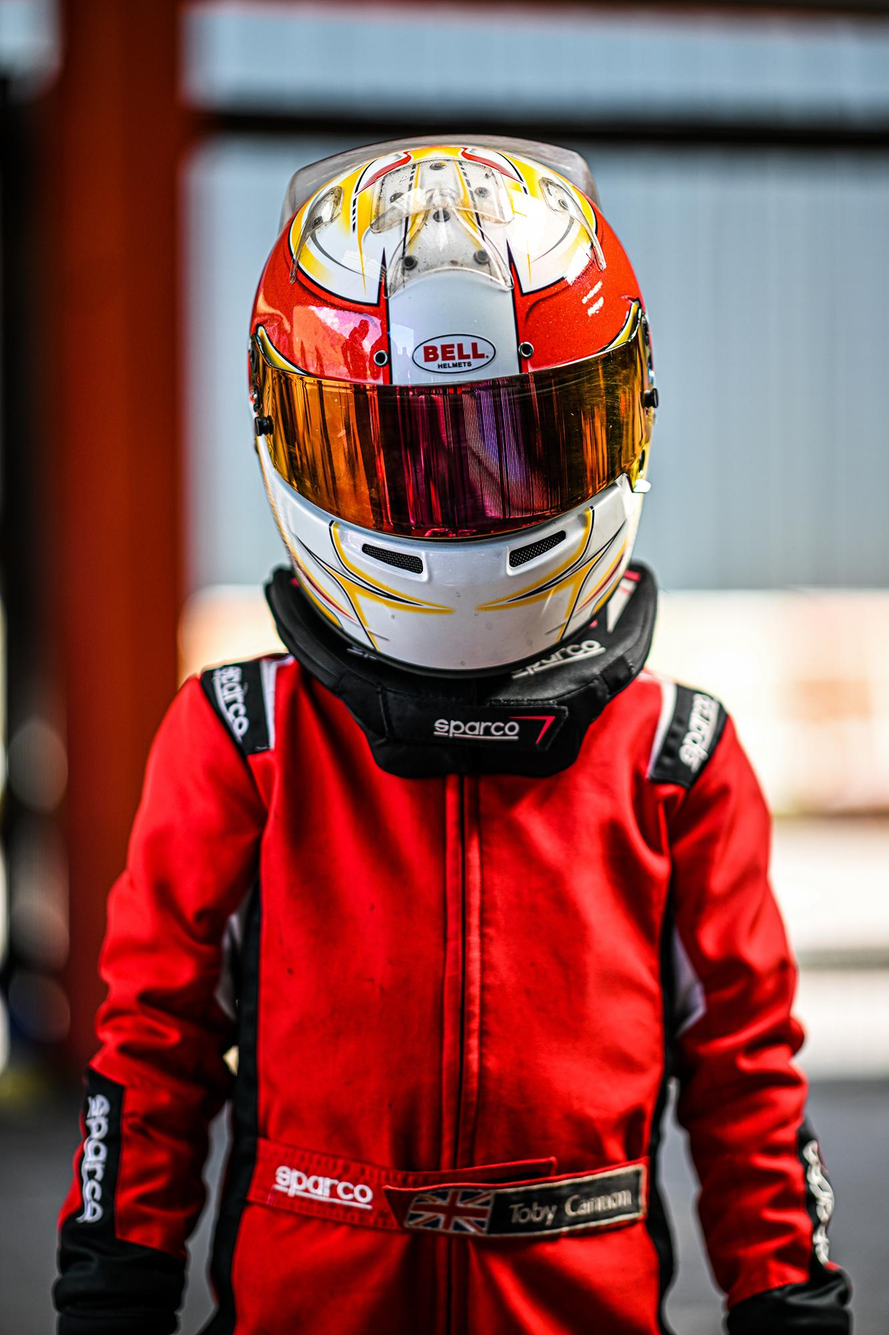helmet: (245, 130, 661, 682)
